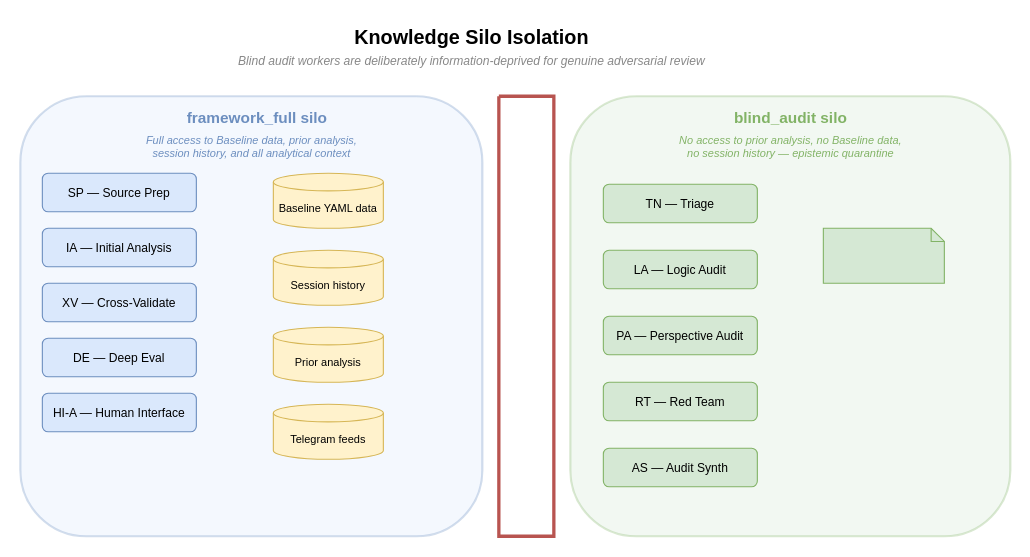
This 1030x557 diagram has some shape labels left out. The centre of each missing label's shape, as x and y in pixels:
"Only the claim under review" belongs at pixel 883 255.
"Silo Boundary" belongs at pixel 526 315.
